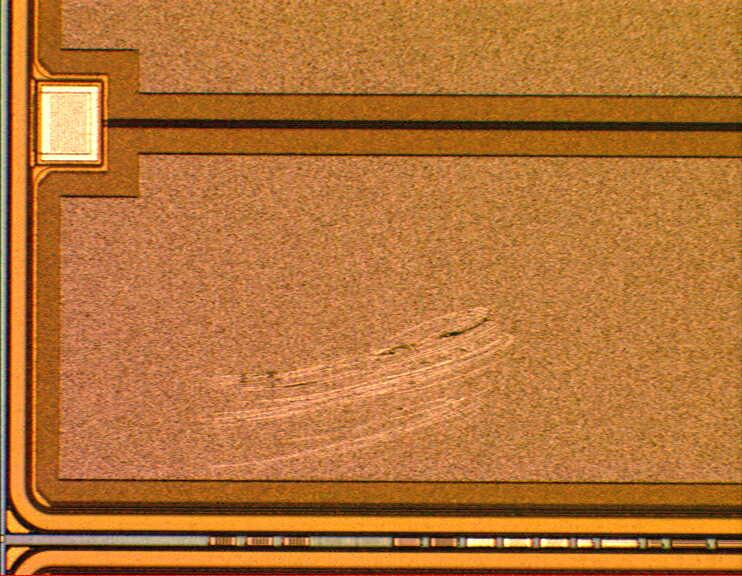SCRATCH: (159, 300, 522, 461)
